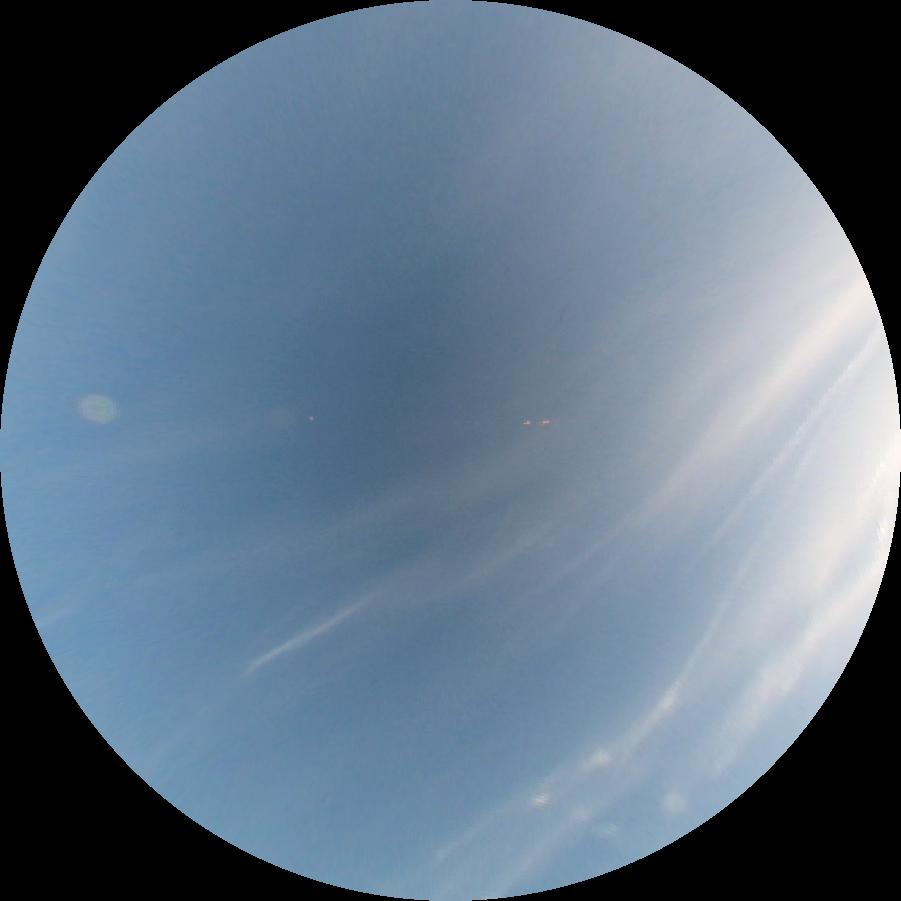contrail old: (677, 323, 885, 572)
contrail veryold: (657, 400, 841, 716)
